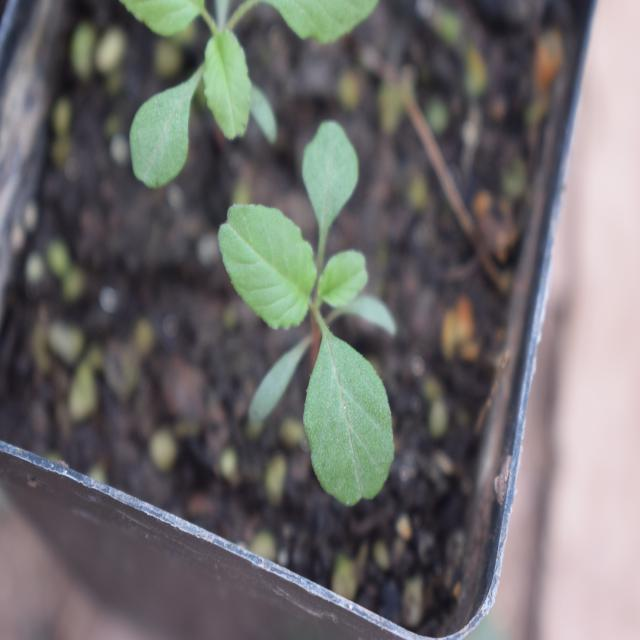pigweed: (205, 146, 399, 509)
